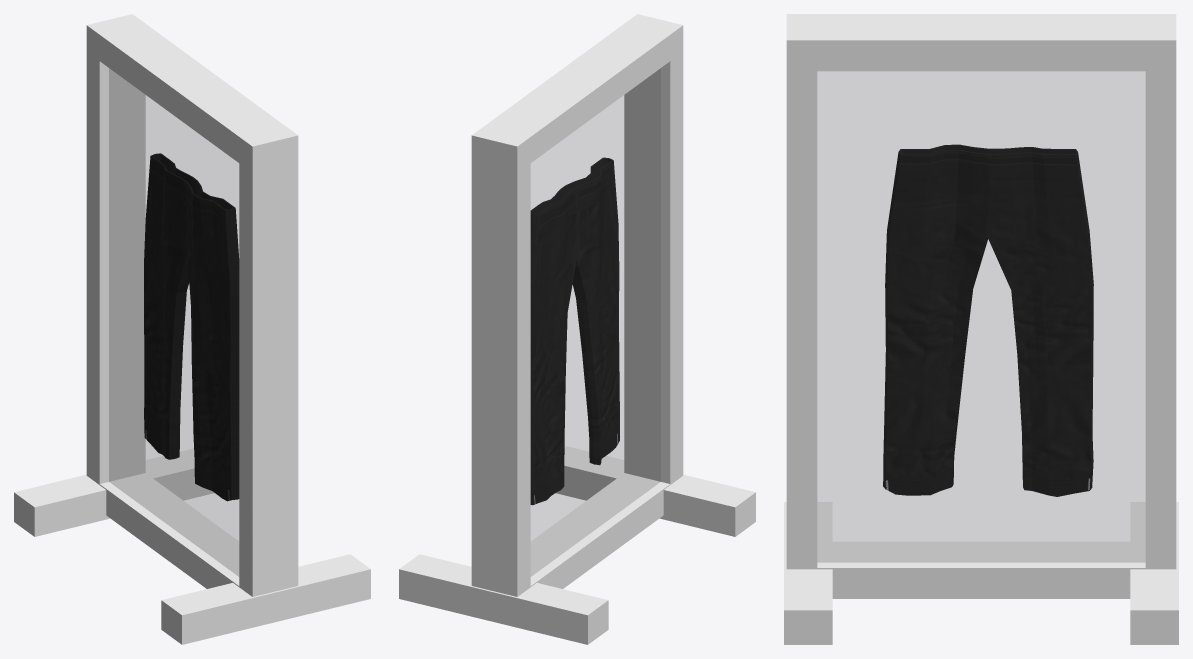
File: chino_black.gltf
3 renders of one model, left to right at view 1: azimuth 30°, elevation 25°; view 2: azimuth 150°, elevation 25°; view 3: azimuth 270°, elevation 25°, orthographic. The views are drawn at different scales.
Visible parts, largest first — view 1: Cube.000, Plane.000; view 2: Cube.000, Plane.000; view 3: Cube.000, Plane.000.
Boxes of the visible parts, x1,y1,x2,y2 form: Cube.000: (14,14,370,644); Plane.000: (144,153,239,501); Cube.000: (399,14,755,644); Plane.000: (530,157,619,505); Cube.000: (784,14,1178,644); Plane.000: (883,144,1093,496).
Size of the model in its own units: 0.2894 by 0.7029 by 0.4462.
4 materials, 1 textured.
